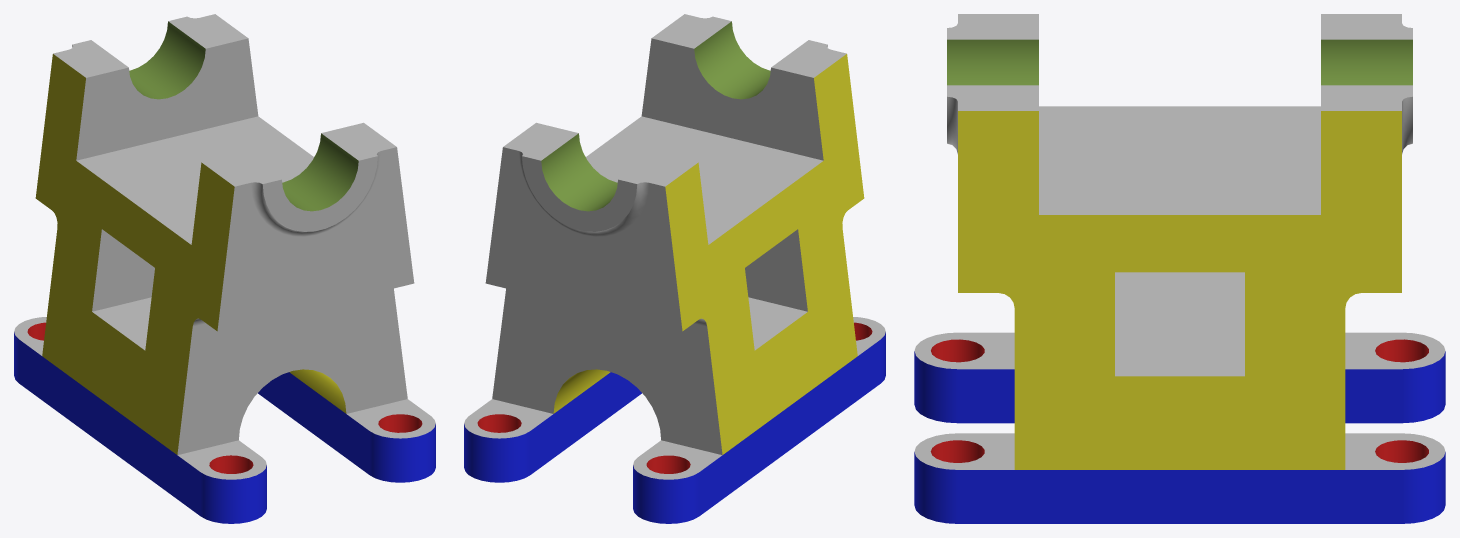
The picture shows the model from 3 angles, left to right: view 1: azimuth 30°, elevation 25°; view 2: azimuth 150°, elevation 25°; view 3: azimuth 270°, elevation 25°; orthographic projection. The views are drawn at different scales.
Parts seen in each view (by area): view 1: Solid1; view 2: Solid1; view 3: Solid1.
Boxes of the visible parts, left/top/right/bottom form: Solid1: left=14, top=14, right=435, bottom=523; Solid1: left=464, top=14, right=885, bottom=523; Solid1: left=914, top=14, right=1445, bottom=523.
Size of the model in its own units: 0.06 by 0.08 by 0.098.
